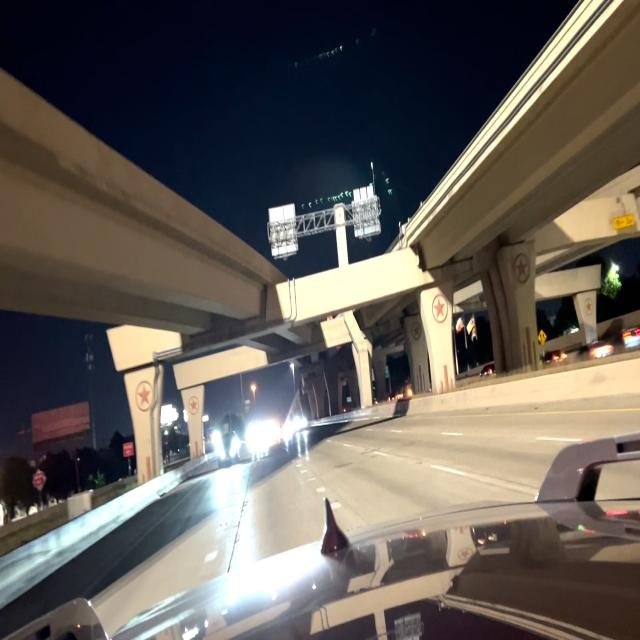back-of-sign: (354, 185, 380, 237), (270, 205, 296, 256)
